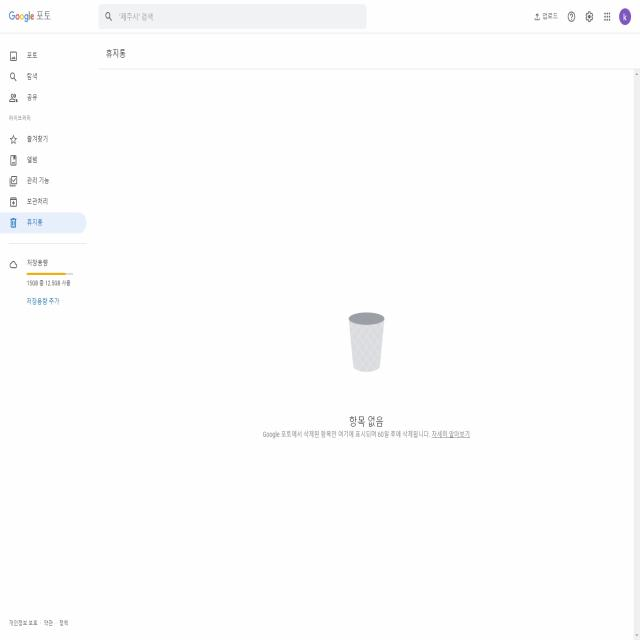menu-bar: (527, 2, 637, 30)
search: (96, 1, 368, 30)
